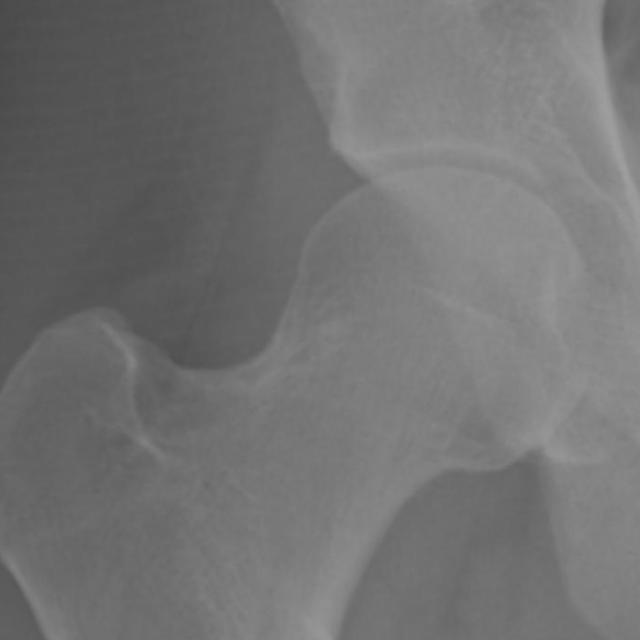Fitted_femural_head: (305, 172, 432, 305)
